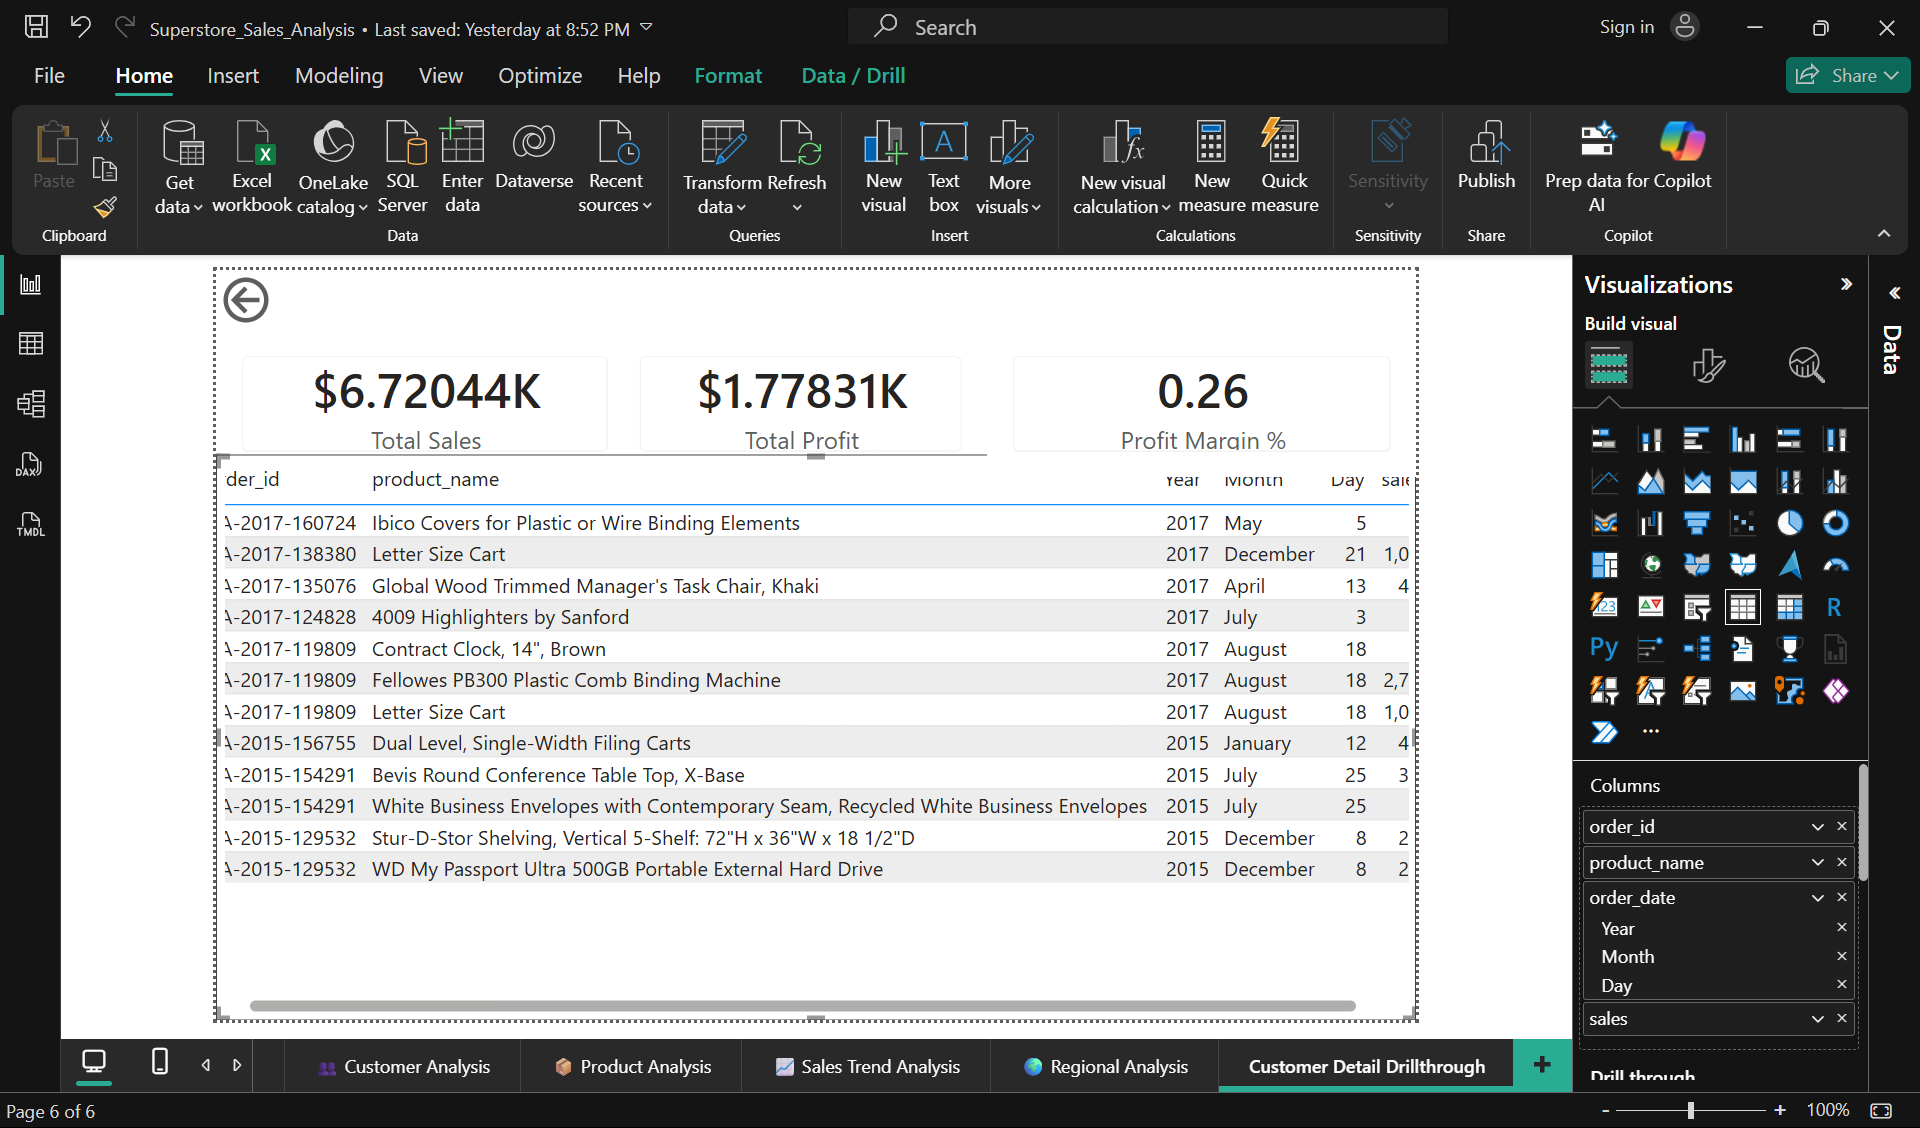

Layout of this report page (visuals, bound fields, positions):
{"tool":"powerbi","page":{"name":"Customer Detail Drillthrough","canvas":[800,500],"ordinal":5},"visuals":[{"type":"actionButton","box":[0,0,47,40],"z":0},{"type":"cardVisual","fields":{"Data":["public orders.Total Sales"]},"box":[0,40,278,98],"z":1},{"type":"cardVisual","fields":{"Data":["public orders.Total Profit"]},"box":[265,40,249,98],"z":2},{"type":"tableEx","fields":{"Values":["public orders.order_id","public orders.product_name","public orders.order_date.Variation.Date Hierarchy.Year","public orders.order_date.Variation.Date Hierarchy.Month","public orders.order_date.Variation.Date Hierarchy.Day","public orders.sales"]},"box":[0,123,800,377],"z":3},{"type":"cardVisual","fields":{"Data":["public orders.Profit Margin %"]},"box":[514,40,286,98],"z":4}]}

Visuals, with their boxes on the page's 800x500 design canvas (x1, y1, x2, y2). These are canvas units, not pixel positions in the 1920x1128 screenshot, which may show the page scaled, cropped or inside an application window:
actionButton: l=0, t=0, r=47, b=40
cardVisual - public orders.Total Sales: l=0, t=40, r=278, b=138
cardVisual - public orders.Total Profit: l=265, t=40, r=514, b=138
tableEx - public orders.order_id x public orders.product_name: l=0, t=123, r=800, b=500
cardVisual - public orders.Profit Margin %: l=514, t=40, r=800, b=138
